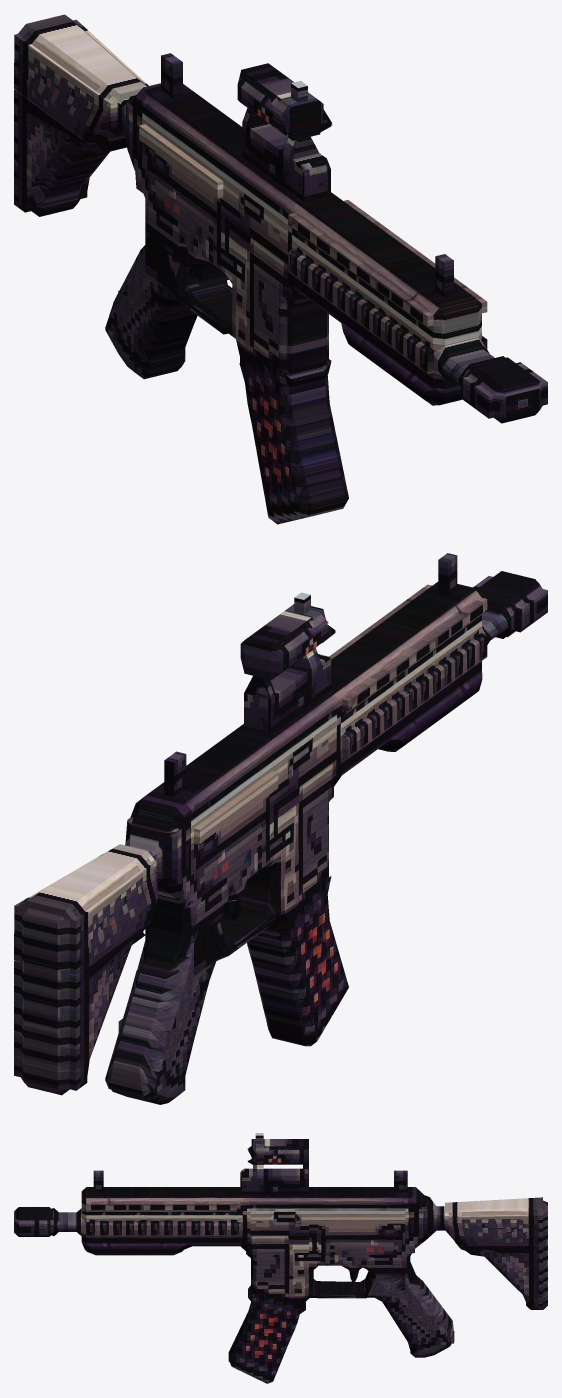
3 renders of one model, top to bottom at view 1: azimuth 30°, elevation 25°; view 2: azimuth 150°, elevation 25°; view 3: azimuth 270°, elevation 25°, orthographic. The views are drawn at different scales.
Parts seen in each view (by area): view 1: OIG1 (4), OIG1 (4).001; view 2: OIG1 (4), OIG1 (4).001; view 3: OIG1 (4), OIG1 (4).001.
Part boxes in pixels (box(x1,y1,x2,y2)): OIG1 (4): box(14, 14, 547, 524); OIG1 (4).001: box(161, 53, 453, 297); OIG1 (4): box(14, 571, 547, 1104); OIG1 (4).001: box(164, 553, 457, 796); OIG1 (4): box(14, 1187, 547, 1383); OIG1 (4).001: box(93, 1133, 407, 1194).
Size of the model in its own units: 0.0696 by 0.4491 by 0.8893.
1 material, 1 textured.
